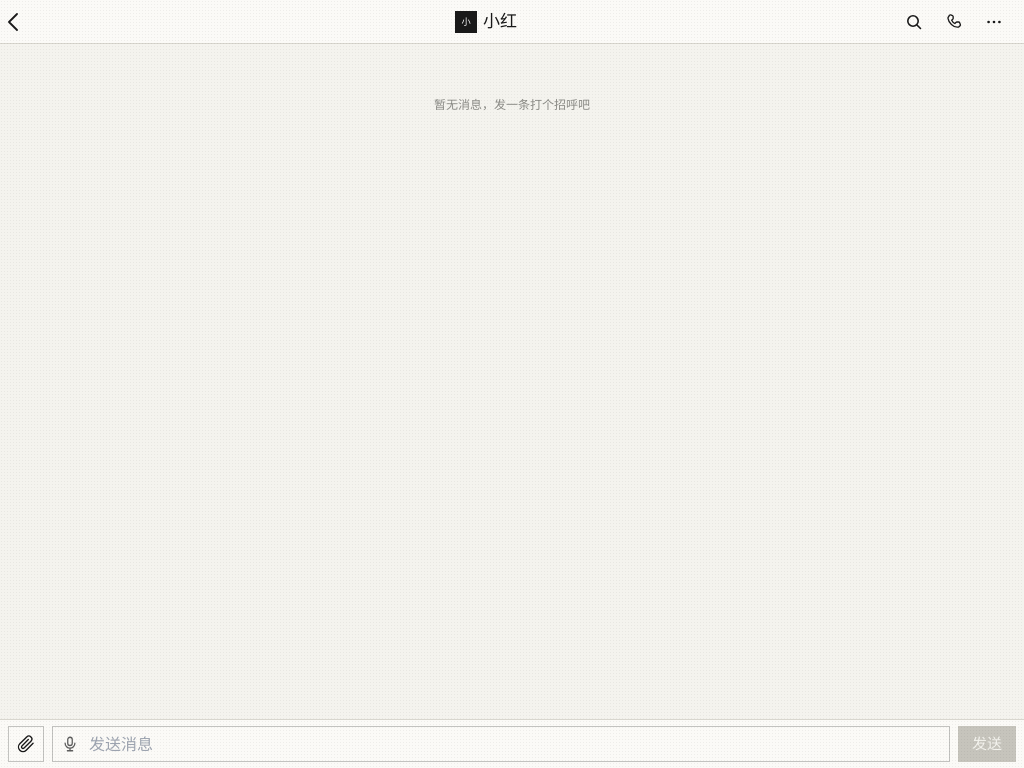
Test: ChatDetail 拉黑确认 › 已拉黑时取消拉黑无需二次确认
Click the button with test id "chat-menu": (994, 22) [976,4,1012,40]
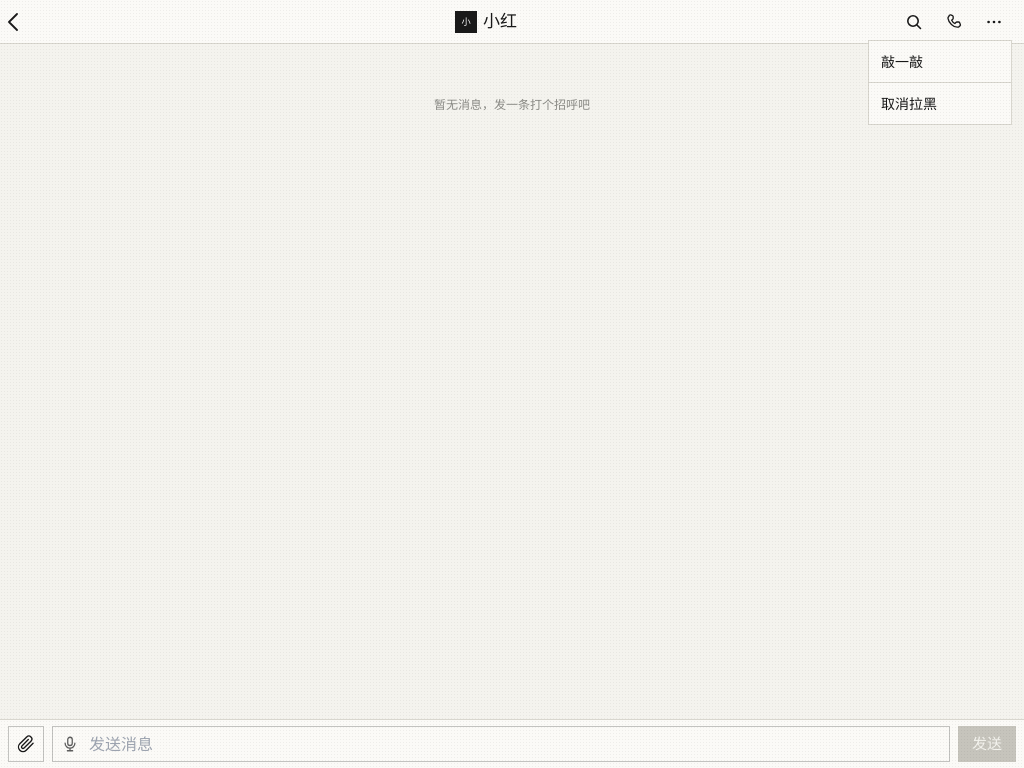
Now the button with test id "block-toggle" reads "取消拉黑"
Click the button with test id "block-toggle": (940, 103) [869,82,1011,124]
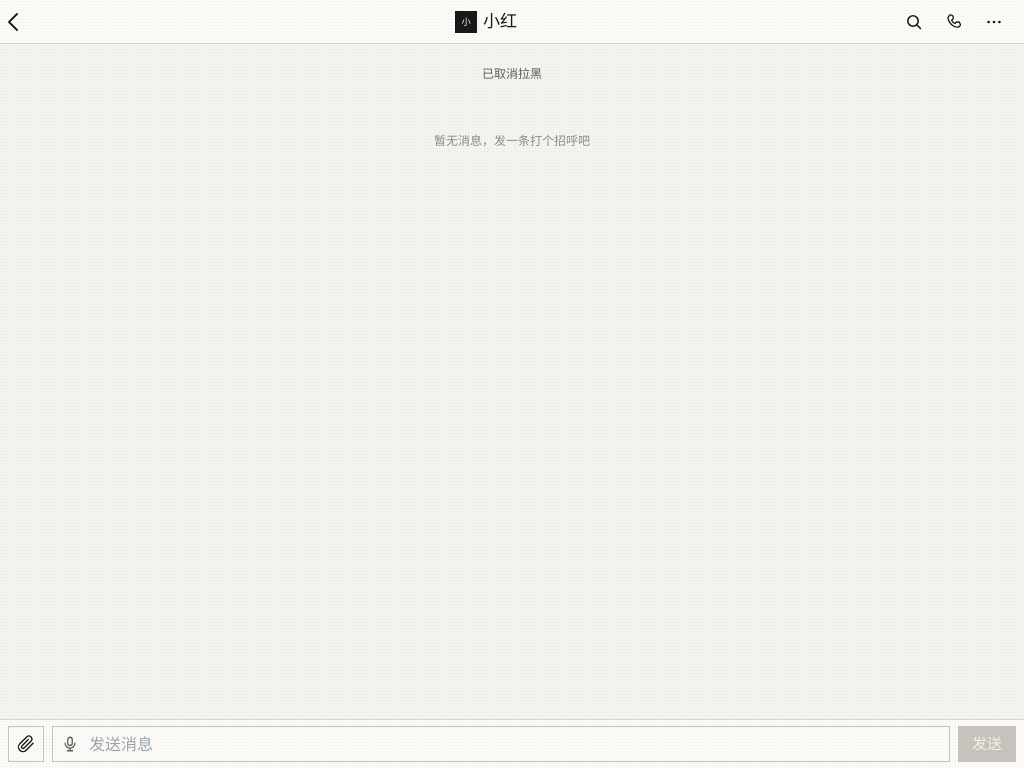
Now the text "已取消拉黑" is shown, box [482,66,542,81]
